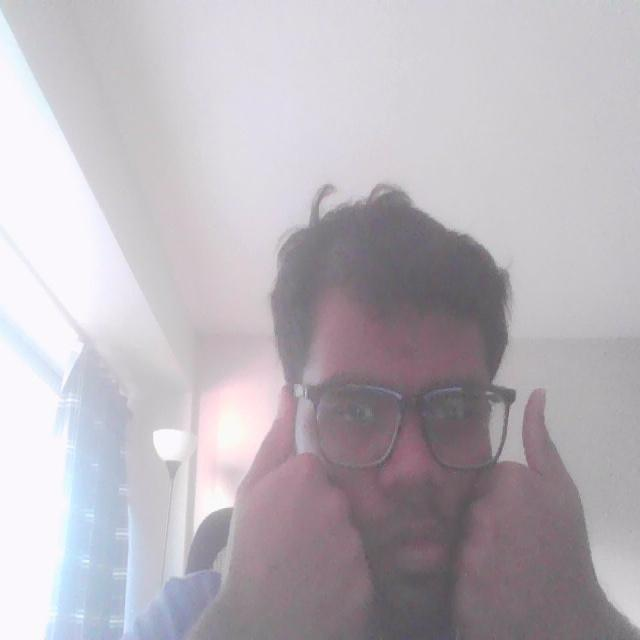IloveYou: (216, 388, 614, 640)
